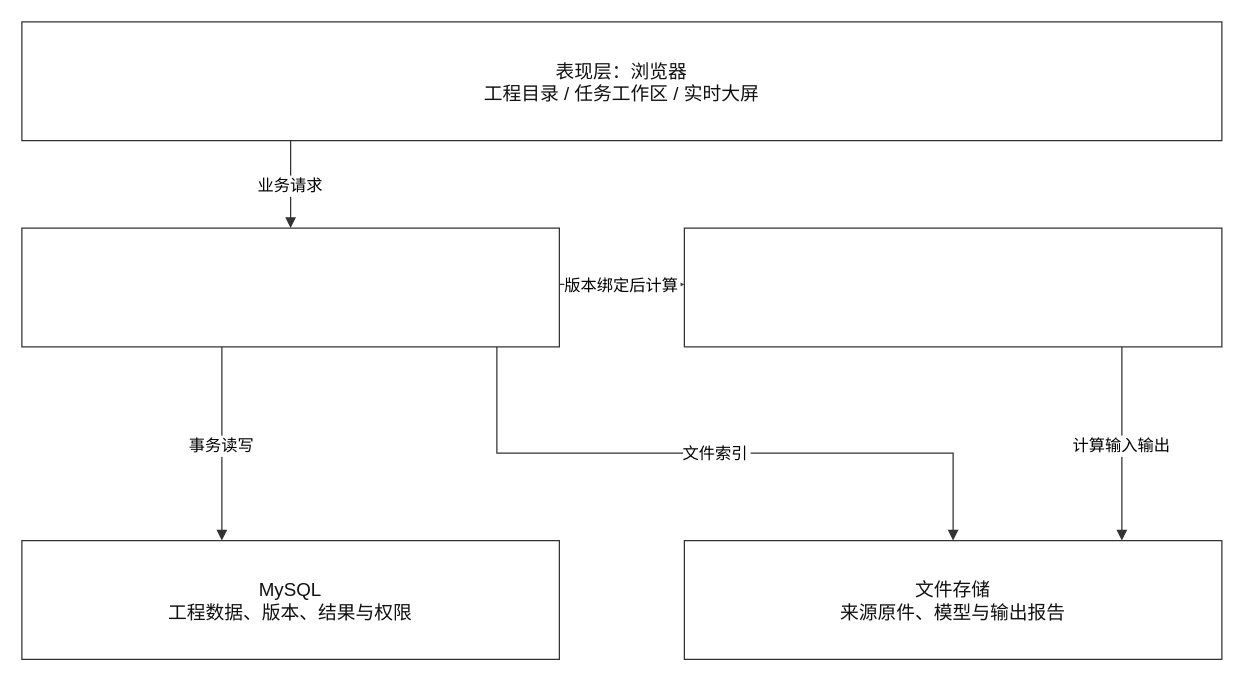
Image size: 1244x681. Some labels were removed from this diagram. The shapes that lost their labels are listed below. From the top down, each one's centre as x and y in pixels, then its label:
the point at 290,287: 业务服务层：Java 认证权限 / 文件版本 / 任务审计
the point at 952,287: 计算服务层：Python 原生轨迹引擎 / 模型适配器 / 报告
